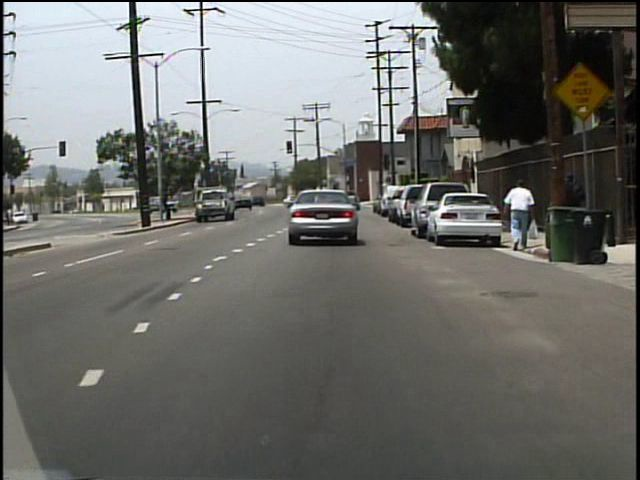person: (503, 178, 537, 254)
